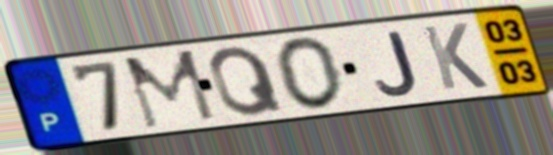7: (68, 59, 124, 134)
J: (373, 28, 421, 98)
K: (418, 21, 492, 93)
M: (120, 47, 220, 133)
O: (273, 34, 346, 112)
Q: (206, 43, 288, 119)
